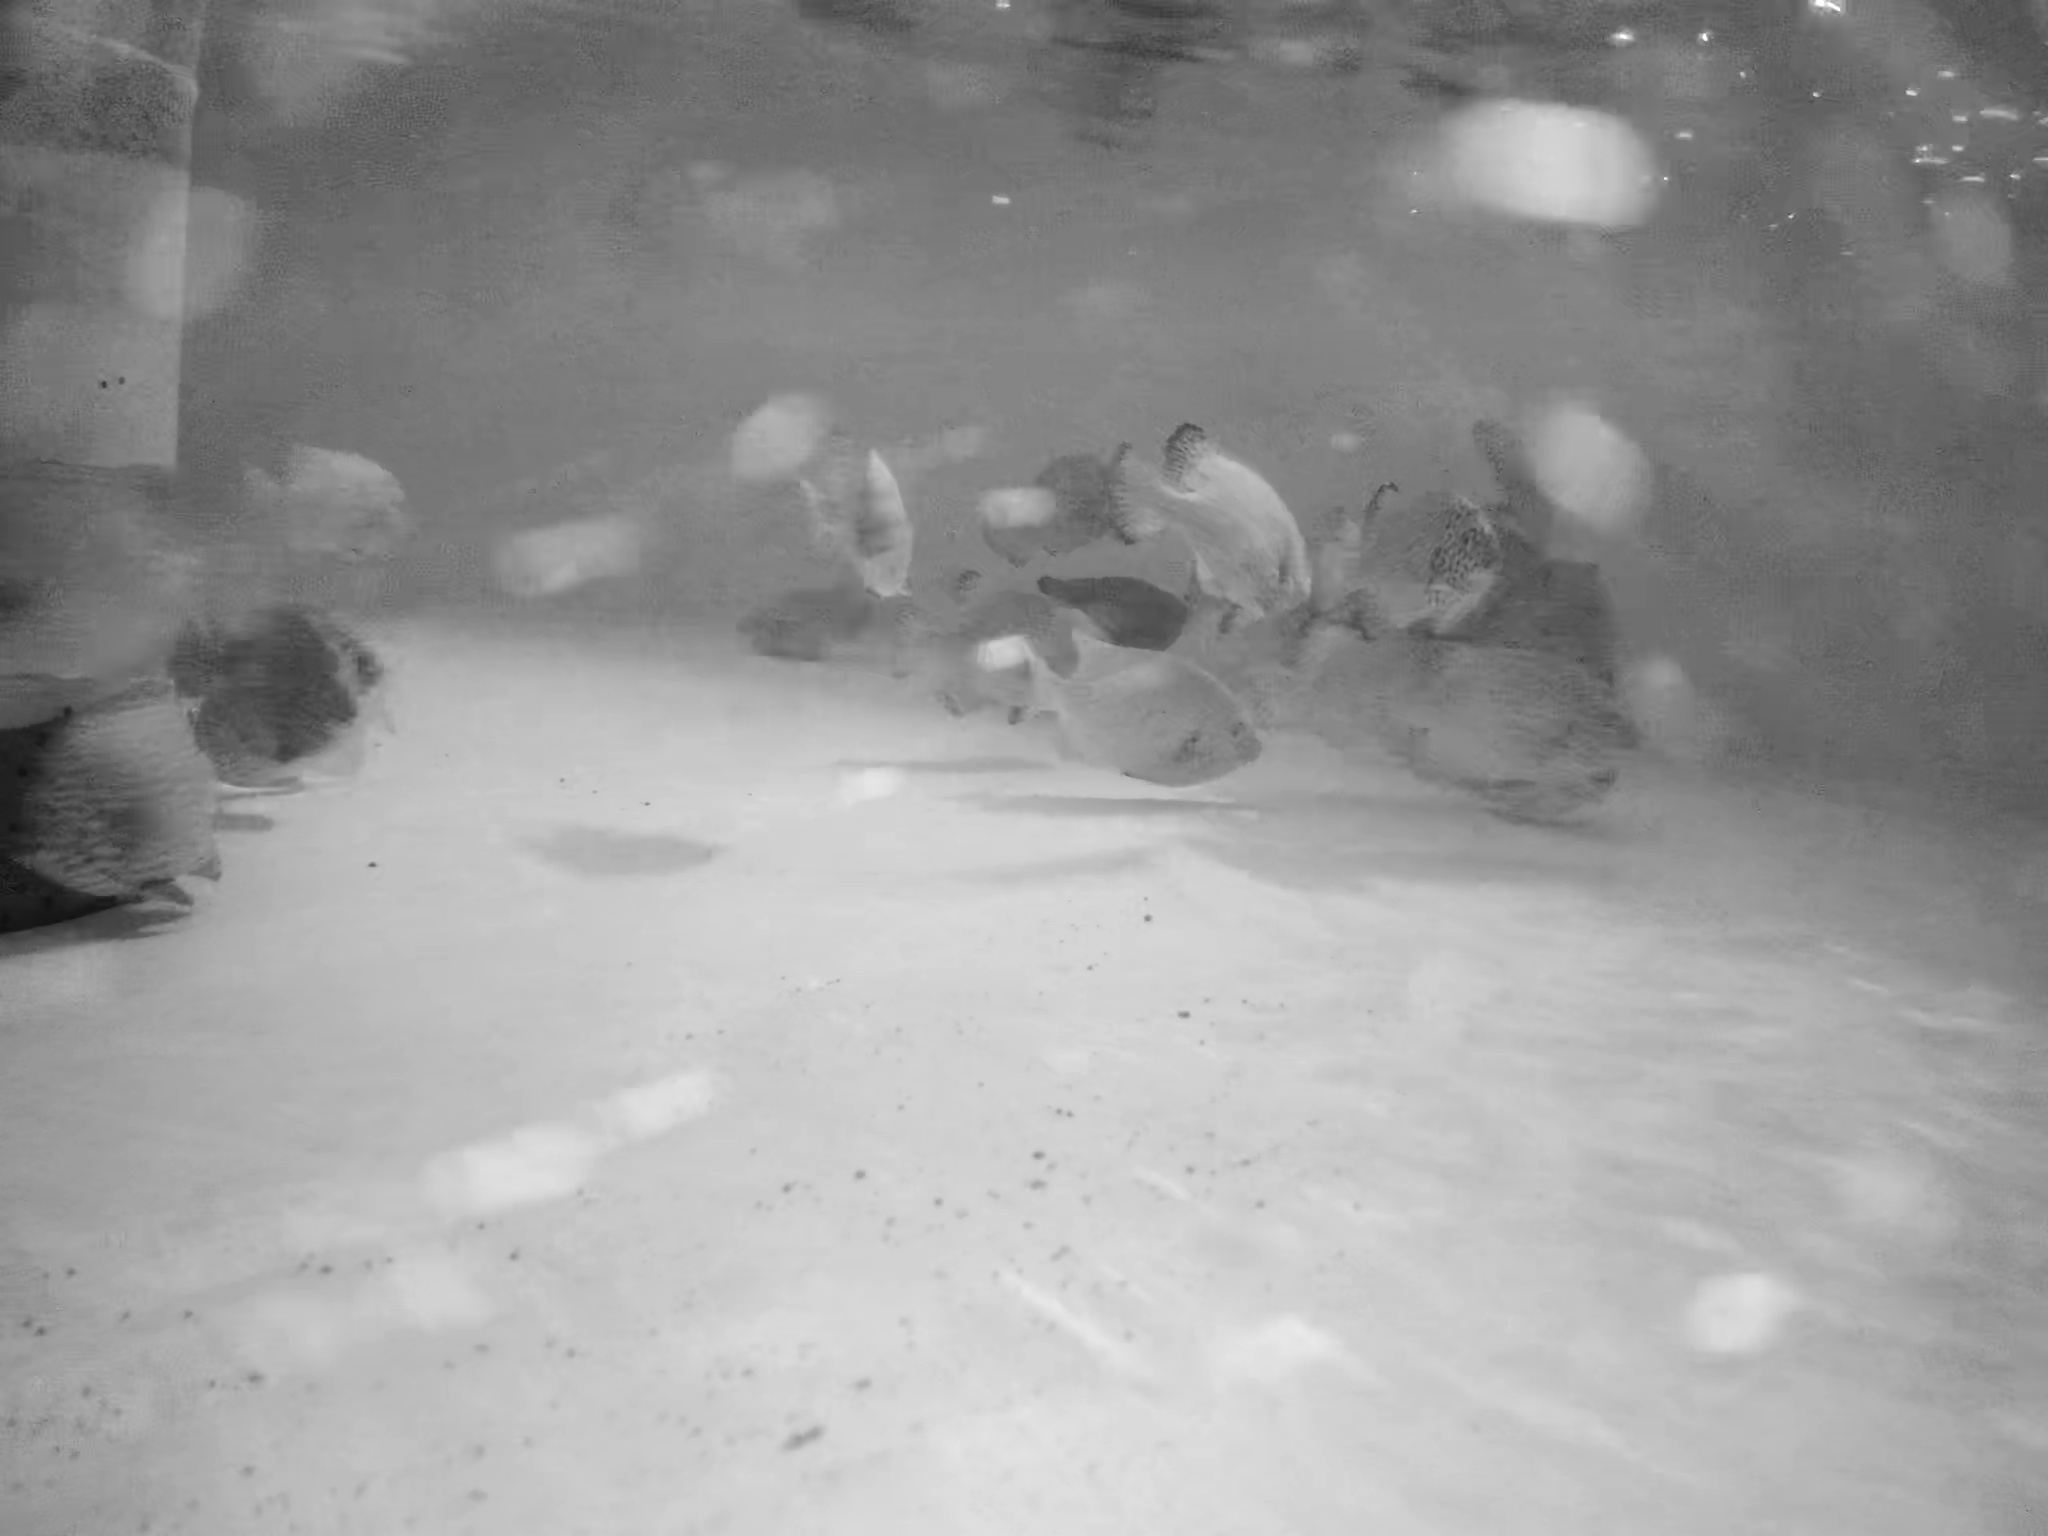fish: (1093, 390, 1342, 649), (1327, 616, 1655, 786), (15, 666, 231, 899), (169, 610, 410, 807), (989, 620, 1276, 783), (1308, 471, 1534, 624), (240, 428, 437, 591), (979, 403, 1121, 587), (1509, 553, 1642, 745), (829, 421, 951, 628), (1488, 395, 1616, 531)
